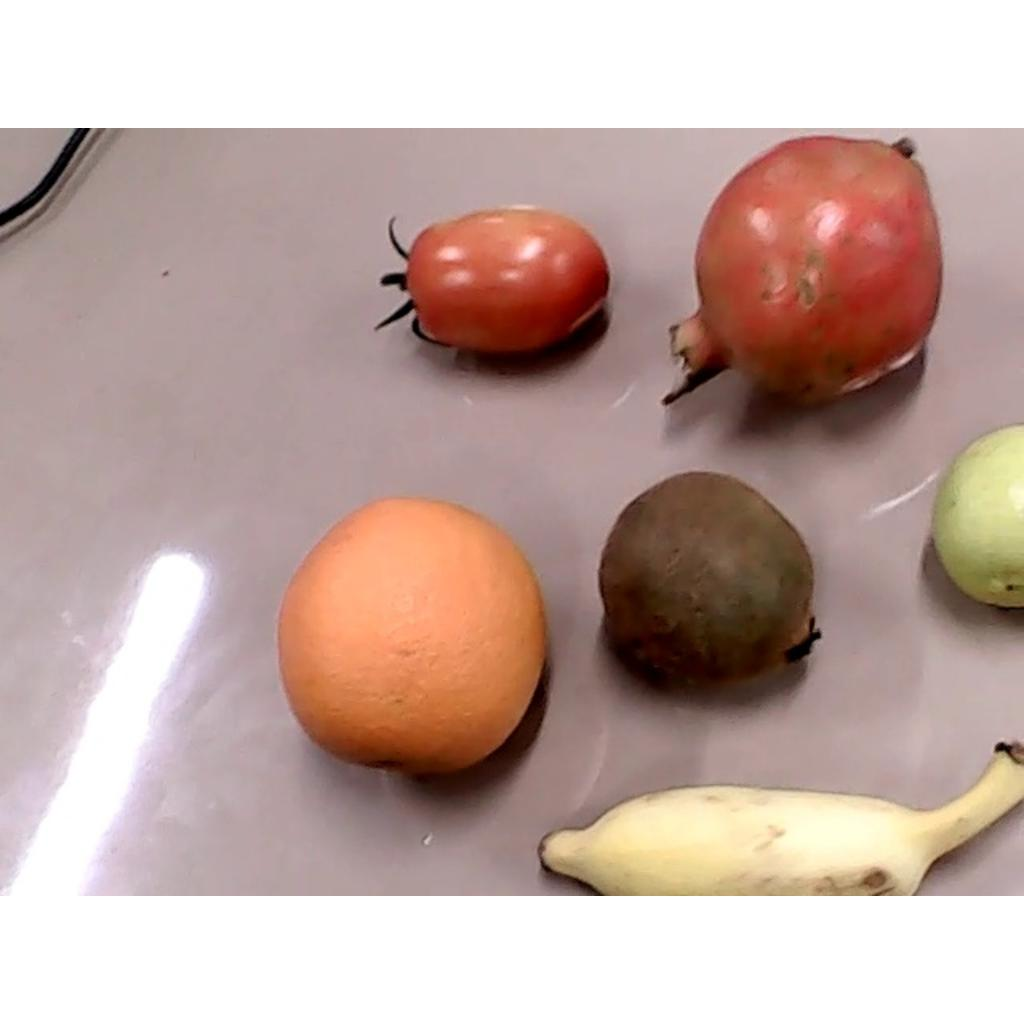kiwi: (597, 471, 823, 693)
lemon: (929, 424, 1022, 608)
orange: (280, 497, 547, 775)
pomegranate: (661, 133, 943, 406)
tomato: (374, 207, 608, 358)
